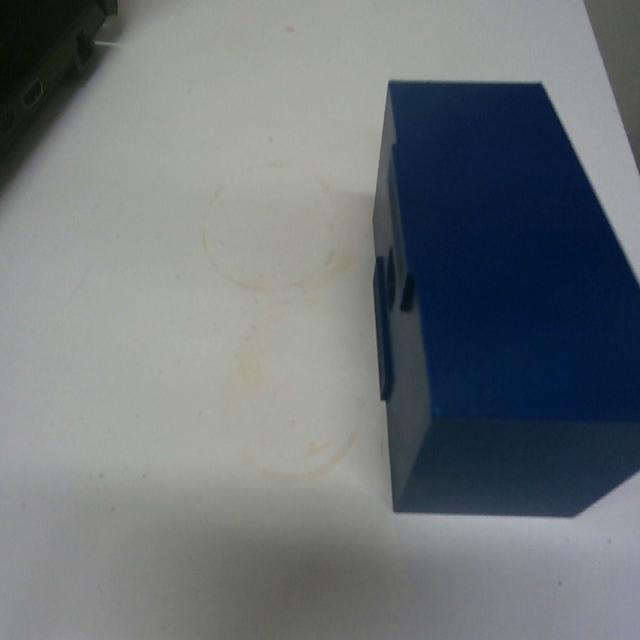Blue Cuboid: (368, 75, 639, 520)
